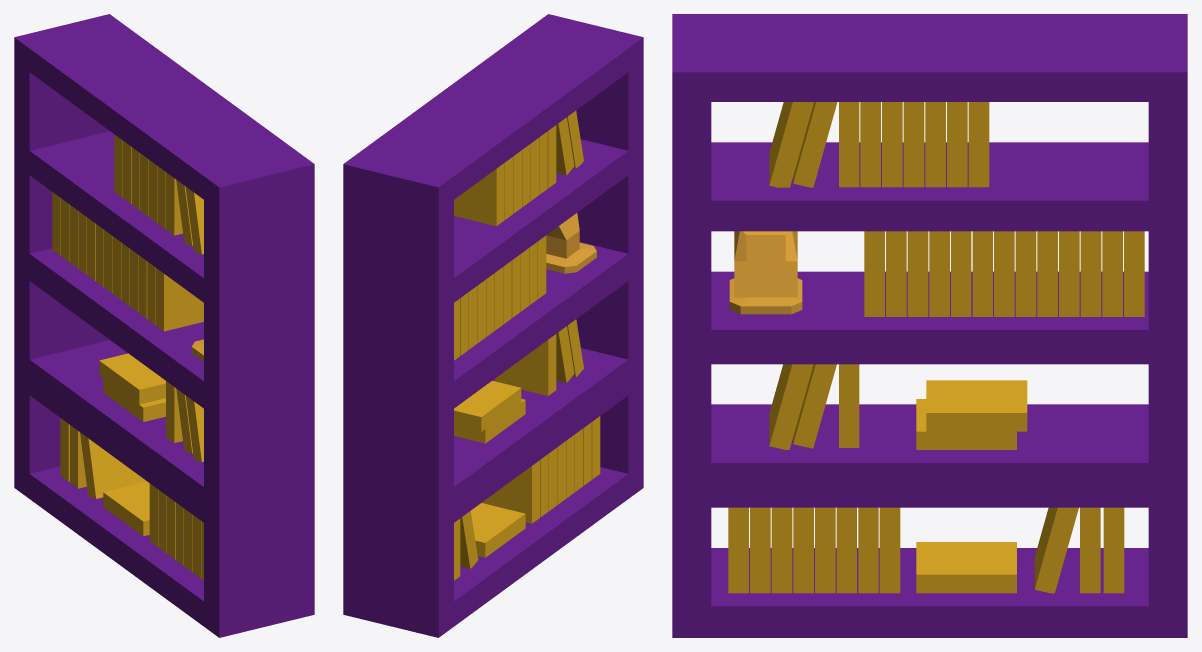
File: shelf.fbx
3 views of the same model, side by side, from view 1: azimuth 30°, elevation 25°; view 2: azimuth 150°, elevation 25°; view 3: azimuth 270°, elevation 25° (orthographic). The views are drawn at different scales.
Parts seen in each view (by area): view 1: Cube, Cube.001; view 2: Cube, Cube.001, Cube.008; view 3: Cube, Cube.001, Cube.008.
Part boxes in pixels (box(x1,y1,x2,y2)): Cube: box(14, 14, 314, 637); Cube.001: box(52, 134, 203, 580); Cube: box(343, 14, 643, 637); Cube.001: box(454, 110, 600, 580); Cube.008: box(546, 213, 596, 273); Cube: box(672, 14, 1187, 637); Cube.001: box(728, 102, 1144, 593); Cube.008: box(729, 231, 802, 314).
Size of the model in its own units: 139 by 626 by 517.
